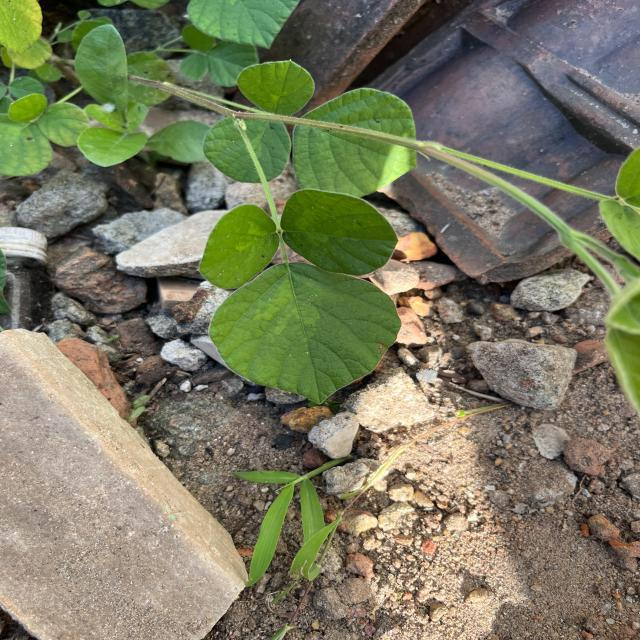Pseudarthria viscida: (195, 186, 405, 408), (201, 56, 418, 196)
